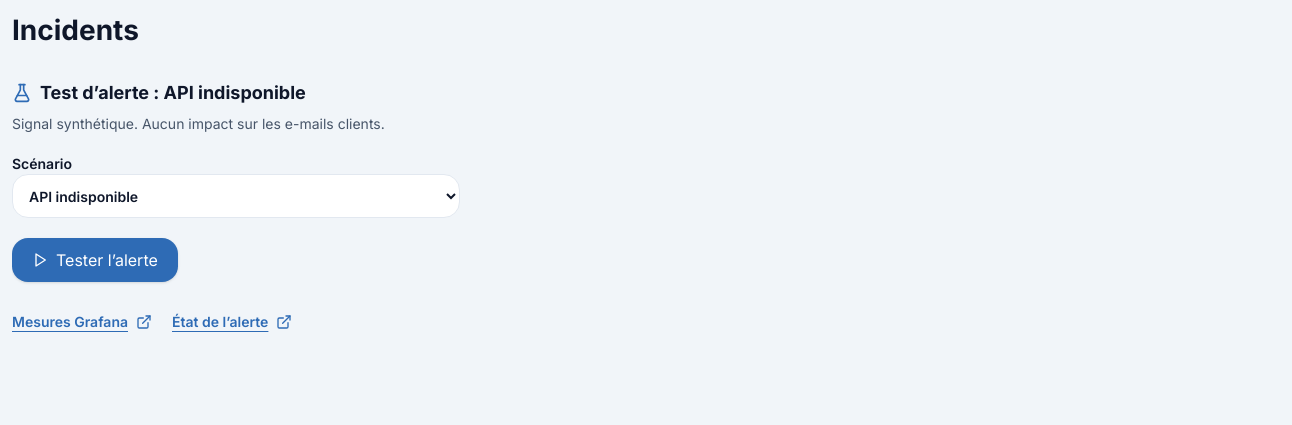
Test case: admin operational exercises › cancels pending confirmation when the selected scenario changes
Click the button "Tester l’alerte": (95, 260) [12,238,178,282]
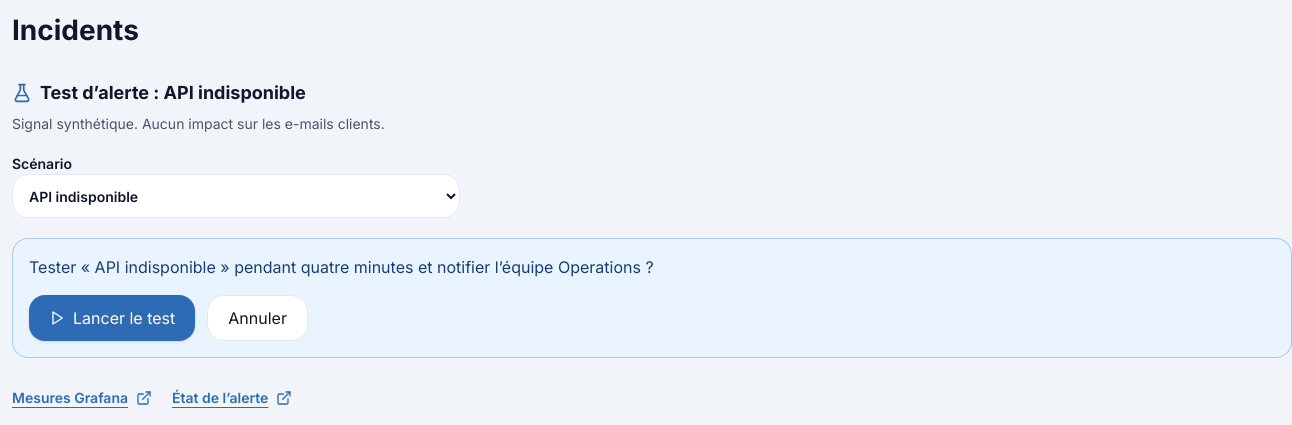
Select "Latence élevée" in the dropdown: (236, 196) [12,174,460,218]
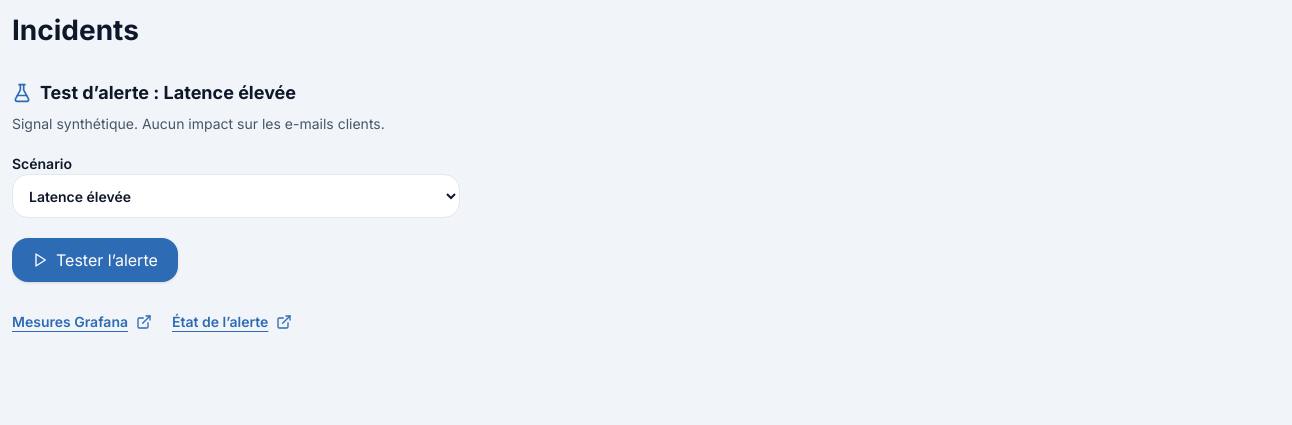
Expected: the button "Lancer le test" is gone
